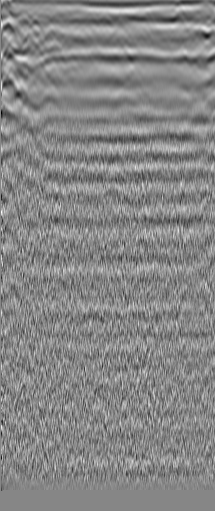오수: (20, 29, 40, 49)
우수: (170, 43, 190, 63)
